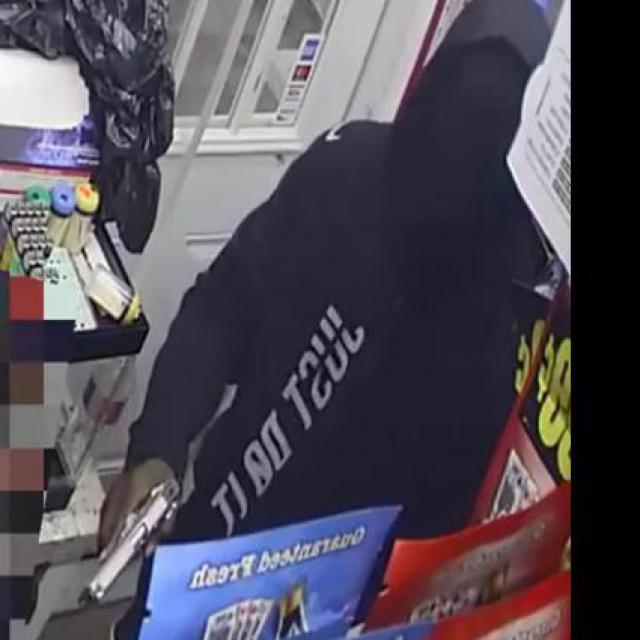Gun: (80, 466, 186, 602)
